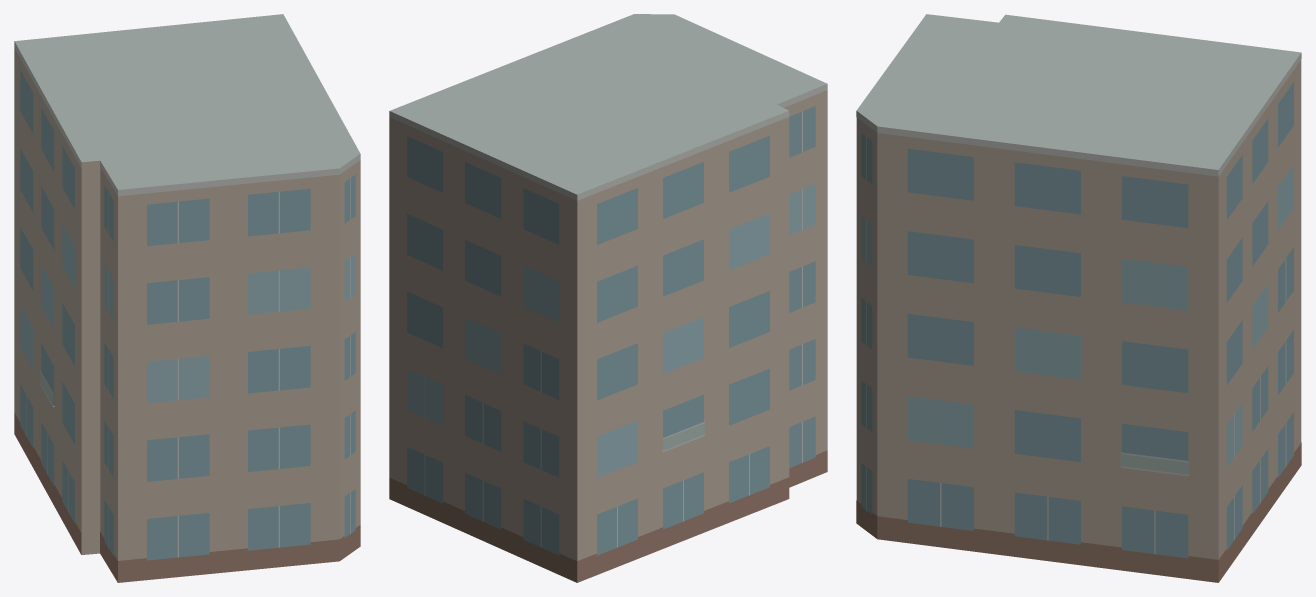
Rendered from survey-upis-32953246.glb.
The picture shows the model from 3 angles, left to right: view 1: azimuth 30°, elevation 25°; view 2: azimuth 150°, elevation 25°; view 3: azimuth 270°, elevation 25°; orthographic projection. The views are drawn at different scales.
Parts seen in each view (by area): view 1: survey-upis-32953246.tmp; view 2: survey-upis-32953246.tmp; view 3: survey-upis-32953246.tmp.
Part boxes in pixels (x1=…): survey-upis-32953246.tmp: x1=14, y1=14, x2=360, y2=582; survey-upis-32953246.tmp: x1=389, y1=14, x2=827, y2=582; survey-upis-32953246.tmp: x1=856, y1=14, x2=1301, y2=582.
Size of the model in its own units: 12.5 by 15.4 by 15.06.
